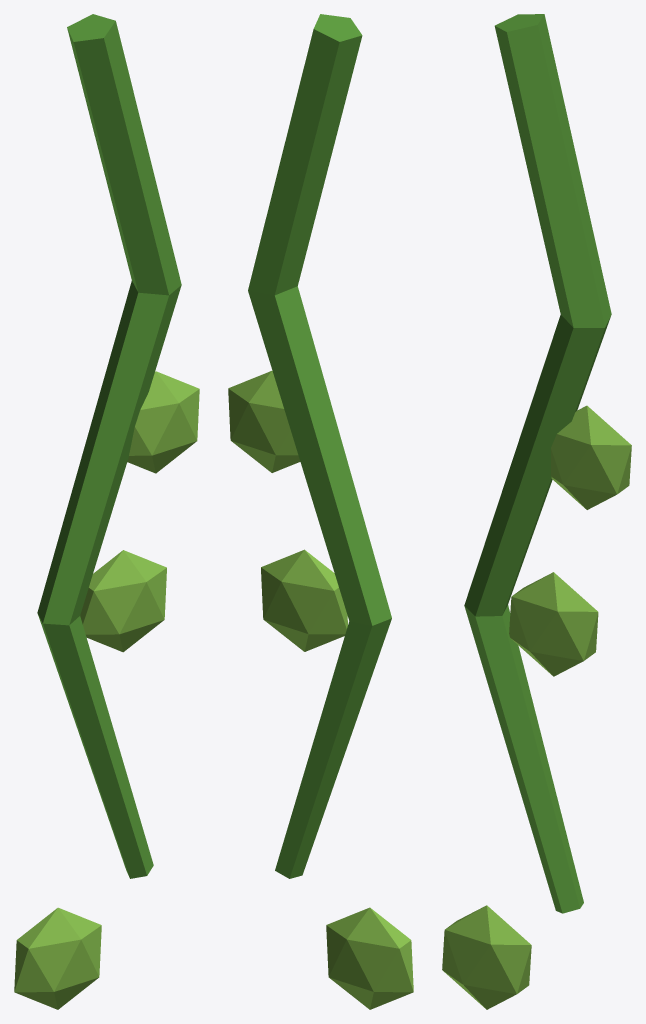
File: sky_hanging_vine.glb
3 views of the same model, side by side, from view 1: azimuth 30°, elevation 25°; view 2: azimuth 150°, elevation 25°; view 3: azimuth 330°, elevation 25° (orthographic). The views are drawn at different scales.
Parts seen in each view (by area): view 1: hanging_vine; view 2: hanging_vine; view 3: hanging_vine.
Boxes of the visible parts, <box> form: hanging_vine: <box>14,14,199,1009</box>; hanging_vine: <box>228,14,413,1009</box>; hanging_vine: <box>442,14,631,1009</box>.
Bounding box in the file's own units: 0.5683 × 2.87 × 0.1266.
